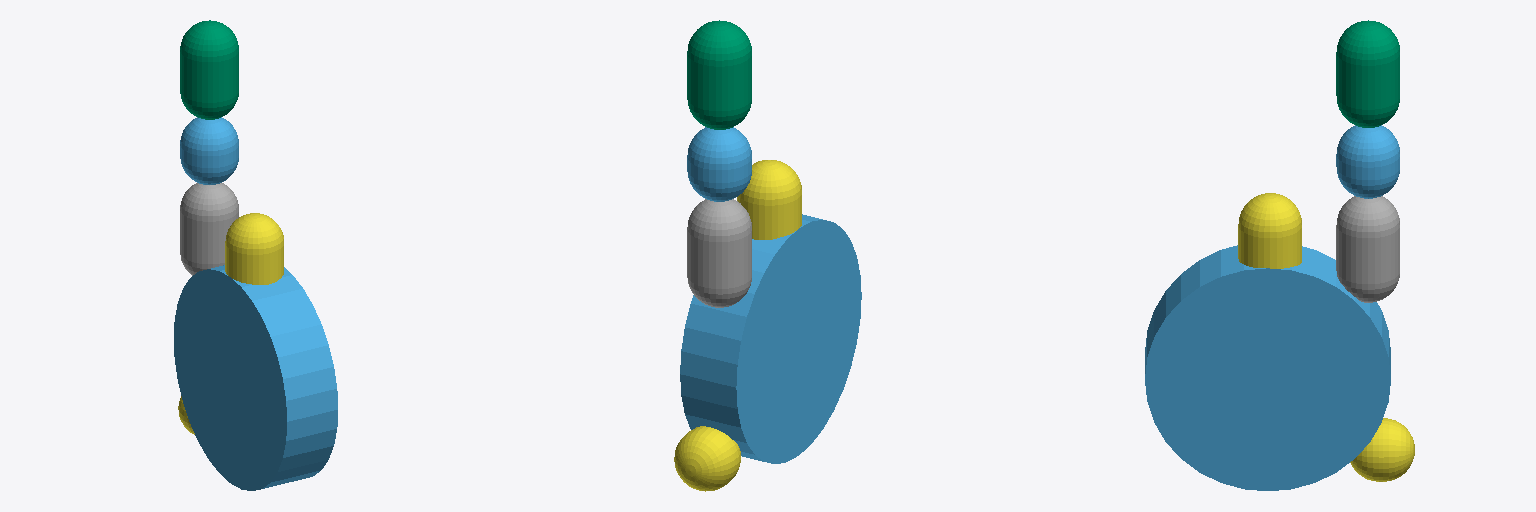
URDF robot description (DexterousHand):
<?xml version="1.0"?>
<robot name="DexterousHand">


    <link name="world"/>
    <joint name="world_to_palm" type="fixed">
        <parent link="world"/>
        <child link="palm"/>
        <origin xyz="0 0 0" rpy="0 0 0"/>
    </joint>
    <link name="palm">
        <inertial>
            <origin xyz="0 0 0.057" rpy="0 0 0"/>
            <mass value="0.30212892864"/>
            <inertia ixx="0.00049080844457568" ixy="0.0" ixz="0.0" iyy="0.00026746366246427523" iyz="0.0" izz="0.00026746366246427523"/>
        </inertial>
        <visual>
            <origin xyz="0 0 0.057" rpy="1.5708 0 1.5708"/>
            <geometry>
                <cylinder radius="0.057" length="0.0296"/>
            </geometry>
            <material name="default"/>
        </visual>
        <collision>
            <origin xyz="0 0 0.057" rpy="1.5708 0 1.5708"/>
            <geometry>
                <cylinder radius="0.057" length="0.0296"/>
            </geometry>
        </collision>
    </link>

    
    <joint name="thumb_joint1" type="revolute">
        <parent link="palm"/>
        <child link="thumb_base"/>
        <origin xyz="0.0029 0.0368 0.0157" rpy="-1.5708 -1.5708 0.0"/>
        <axis xyz="-1 0 0"/>
        <limit lower="-0.349" upper="2.094" effort="1.0" velocity="1.0"/>
    </joint>

    <link name="thumb_base"></link>

    <joint name="thumb_joint2" type="revolute">
        <parent link="thumb_base"/>
        <child link="thumb_proximal"/>
        <origin xyz="0.0 0.0 0.0" rpy="0.0 0.0 0.0"/>
        <axis xyz="0 0 1"/>
        <limit lower="-0.47" upper="2.443" effort="1.0" velocity="1.0"/>
    </joint>

    <link name="thumb_proximal">
        <inertial>
            <origin xyz="0 0 0.01565" rpy="0 0 0"/>
            <mass value="0.021538658803200002"/>
            <inertia ixx="2.9378910096388167e-06" ixy="0.0" ixz="0.0" 
            iyy="2.9378910096388167e-06" iyz="0.0" izz="2.358913912126464e-06"/>
        </inertial>
        <visual>
            <origin xyz="0 0 0.01565" rpy="0 0 0"/>
            <geometry>
                <cylinder radius="0.0148" length="0.0017000000000000001"/>
            </geometry>
            <material name="default"/>
        </visual>
        <visual>
            <origin xyz="0 0 0.0148" rpy="0 0 0"/>
            <geometry>
                <sphere radius="0.0148"/>
            </geometry>
            <material name="default"/>
        </visual>
        <visual>
            <origin xyz="0 0 0.0165" rpy="0 0 0"/>
            <geometry>
                <sphere radius="0.0148"/>
            </geometry>
            <material name="default"/>
        </visual>
        <collision>
            <origin xyz="0 0 0.01565" rpy="0 0 0"/>
            <geometry>
                <cylinder radius="0.0148" length="0.0017000000000000001"/>
            </geometry>
        </collision>
        <collision>
            <origin xyz="0 0 0.0148" rpy="0 0 0"/>
            <geometry>
                <sphere radius="0.0148"/>
            </geometry>
        </collision>
        <collision>
            <origin xyz="0 0 0.0165" rpy="0 0 0"/>
            <geometry>
                <sphere radius="0.0148"/>
            </geometry>
        </collision>
    </link>

    <joint name="thumb_joint3" type="revolute">
        <parent link="thumb_proximal"/>
        <child link="thumb_knuckle"/>
        <origin xyz="0.0 0.0 0.0" rpy="0.0 0.0 0.0"/>
        <axis xyz="1 0 0"/>
        <limit lower="0.0" upper="0.0" effort="1.0" velocity="1.0"/>
    </joint>

    <link name="thumb_knuckle"></link>

    <joint name="thumb_joint4" type="revolute">
        <parent link="thumb_knuckle"/>
        <child link="thumb_middle"/>
        <origin xyz="0 0 0" rpy="0 0 0"/> 
        <axis xyz="0 1 0"/>
        <limit lower="0.0" upper="0.0" effort="1.0" velocity="1.0"/>
    </joint>

    <link name="thumb_middle">
    </link>

    <joint name="thumb_joint5" type="revolute">
        <parent link="thumb_middle"/>
        <child link="thumb_distal"/>
        <origin xyz="0 0 0" rpy="0 0 0"/> 
        <axis xyz="0 1 0"/>
        <limit lower="0.0" upper="0.0" effort="1.0" velocity="1.0"/>
    </joint>

    <link name="thumb_distal">
    </link>

    
    <joint name="index_joint1" type="revolute">
        <parent link="palm"/>
        <child link="index_proximal"/>
        <origin xyz="0.0 0.0465 0.091" rpy="0.0 0.0 0.0"/>
        <axis xyz="0 1 0"/>
        <limit lower="-0.314" upper="2.23" effort="1.0" velocity="1.0"/>
    </joint>

    <link name="index_proximal">
        <inertial>
            <origin xyz="0 0 0.02655" rpy="0 0 0"/>
            <mass value="0.036540024998400006"/>
            <inertia ixx="1.058665009272394e-05" ixy="0.0" ixz="0.0" 
            iyy="1.058665009272394e-05" iyz="0.0" izz="4.001863537824769e-06"/>
        </inertial>
        <visual>
            <origin xyz="0 0 0.02655" rpy="0 0 0"/>
            <geometry>
                <cylinder radius="0.0148" length="0.0235"/>
            </geometry>
            <material name="default"/>
        </visual>
        <visual>
            <origin xyz="0 0 0.0148" rpy="0 0 0"/>
            <geometry>
                <sphere radius="0.0148"/>
            </geometry>
            <material name="default"/>
        </visual>
        <visual>
            <origin xyz="0 0 0.0383" rpy="0 0 0"/>
            <geometry>
                <sphere radius="0.0148"/>
            </geometry>
            <material name="default"/>
        </visual>
        <collision>
            <origin xyz="0 0 0.02655" rpy="0 0 0"/>
            <geometry>
                <cylinder radius="0.0148" length="0.0235"/>
            </geometry>
        </collision>
        <collision>
            <origin xyz="0 0 0.0148" rpy="0 0 0"/>
            <geometry>
                <sphere radius="0.0148"/>
            </geometry>
        </collision>
        <collision>
            <origin xyz="0 0 0.0383" rpy="0 0 0"/>
            <geometry>
                <sphere radius="0.0148"/>
            </geometry>
        </collision>
    </link>

    <joint name="index_joint2" type="revolute">
        <parent link="index_proximal"/>
        <child link="index_dummy"/>
        <origin xyz="0.0 0.0 0.038" rpy="0.0 0.0 0.0"/>
        <axis xyz="1 0 0"/>
        <limit lower="-1.047" upper="1.047" effort="1.0" velocity="1.0"/>
    </joint>

    <link name="index_dummy"></link>

    <joint name="index_joint3" type="revolute">
        <parent link="index_dummy"/>
        <child link="index_middle"/>
        <origin xyz="0 0 0.015100000000000002" rpy="0 0 0"/>
        <axis xyz="0 1 0"/>
        <limit lower="-0.506" upper="1.885" effort="1.0" velocity="1.0"/>
    </joint>

    <link name="index_middle">
        <inertial>
            <origin xyz="0 0 0.01805" rpy="0 0 0"/>
            <mass value="0.0248417119104"/>
            <inertia ixx="4.058162759109537e-06" ixy="0.0" ixz="0.0" 
            iyy="4.058162759109537e-06" iyz="0.0" izz="2.7206642884270085e-06"/>
        </inertial>
        <visual>
            <origin xyz="0 0 0.01805" rpy="0 0 0"/>
            <geometry>
                <cylinder radius="0.0148" length="0.006499999999999999"/>
            </geometry>
            <material name="default"/>
        </visual>
        <visual>
            <origin xyz="0 0 0.0148" rpy="0 0 0"/>
            <geometry>
                <sphere radius="0.0148"/>
            </geometry>
            <material name="default"/>
        </visual>
        <visual>
            <origin xyz="0 0 0.0213" rpy="0 0 0"/>
            <geometry>
                <sphere radius="0.0148"/>
            </geometry>
            <material name="default"/>
        </visual>
        <collision>
            <origin xyz="0 0 0.01805" rpy="0 0 0"/>
            <geometry>
                <cylinder radius="0.0148" length="0.006499999999999999"/>
            </geometry>
        </collision>
        <collision>
            <origin xyz="0 0 0.0148" rpy="0 0 0"/>
            <geometry>
                <sphere radius="0.0148"/>
            </geometry>
        </collision>
        <collision>
            <origin xyz="0 0 0.0213" rpy="0 0 0"/>
            <geometry>
                <sphere radius="0.0148"/>
            </geometry>
        </collision>
    </link>

    <joint name="index_joint4" type="revolute">
        <parent link="index_middle"/>
        <child link="index_distal"/>
        <origin xyz="0 0 0.0361" rpy="0 0 0"/> 
        <axis xyz="0 1 0"/>
        <limit lower="-0.366" upper="2.042" effort="1.0" velocity="1.0"/>
    </joint>

    <link name="index_distal">
        <inertial>
            <origin xyz="0 0 0.026" rpy="0 0 0"/>
            <mass value="0.035783075328"/>
            <inertia ixx="1.002260084553728e-05" ixy="0.0" ixz="0.0" 
            iyy="1.002260084553728e-05" iyz="0.0" izz="3.91896240992256e-06"/>
        </inertial>
        <visual>
            <origin xyz="0 0 0.026" rpy="0 0 0"/>
            <geometry>
                <cylinder radius="0.0148" length="0.022399999999999996"/>
            </geometry>
            <material name="default"/>
        </visual>
        <visual>
            <origin xyz="0 0 0.0148" rpy="0 0 0"/>
            <geometry>
                <sphere radius="0.0148"/>
            </geometry>
            <material name="default"/>
        </visual>
        <visual>
            <origin xyz="0 0 0.0372" rpy="0 0 0"/>
            <geometry>
                <sphere radius="0.0148"/>
            </geometry>
            <material name="default"/>
        </visual>
        <collision>
            <origin xyz="0 0 0.026" rpy="0 0 0"/>
            <geometry>
                <cylinder radius="0.0148" length="0.022399999999999996"/>
            </geometry>
        </collision>
        <collision>
            <origin xyz="0 0 0.0148" rpy="0 0 0"/>
            <geometry>
                <sphere radius="0.0148"/>
            </geometry>
        </collision>
        <collision>
            <origin xyz="0 0 0.0372" rpy="0 0 0"/>
            <geometry>
                <sphere radius="0.0148"/>
            </geometry>
        </collision>
    </link>

    
    <joint name="middle_joint1" type="revolute">
        <parent link="palm"/>
        <child link="middle_proximal"/>
        <origin xyz="0.0 0.0011 0.091" rpy="0.0 0.0 0.0"/>
        <axis xyz="0 1 0"/>
        <limit lower="-0.314" upper="2.23" effort="1.0" velocity="1.0"/>
    </joint>

    <link name="middle_proximal">
        <inertial>
            <origin xyz="0 0 0.02655" rpy="0 0 0"/>
            <mass value="0.036540024998400006"/>
            <inertia ixx="1.058665009272394e-05" ixy="0.0" ixz="0.0" 
            iyy="1.058665009272394e-05" iyz="0.0" izz="4.001863537824769e-06"/>
        </inertial>
        <visual>
            <origin xyz="0 0 0.02655" rpy="0 0 0"/>
            <geometry>
                <cylinder radius="0.0148" length="0.0235"/>
            </geometry>
            <material name="default"/>
        </visual>
        <visual>
            <origin xyz="0 0 0.0148" rpy="0 0 0"/>
            <geometry>
                <sphere radius="0.0148"/>
            </geometry>
            <material name="default"/>
        </visual>
        <visual>
            <origin xyz="0 0 0.0383" rpy="0 0 0"/>
            <geometry>
                <sphere radius="0.0148"/>
            </geometry>
            <material name="default"/>
        </visual>
        <collision>
            <origin xyz="0 0 0.02655" rpy="0 0 0"/>
            <geometry>
                <cylinder radius="0.0148" length="0.0235"/>
            </geometry>
        </collision>
        <collision>
            <origin xyz="0 0 0.0148" rpy="0 0 0"/>
            <geometry>
                <sphere radius="0.0148"/>
            </geometry>
        </collision>
        <collision>
            <origin xyz="0 0 0.0383" rpy="0 0 0"/>
            <geometry>
                <sphere radius="0.0148"/>
            </geometry>
        </collision>
    </link>

    <joint name="middle_joint2" type="revolute">
        <parent link="middle_proximal"/>
        <child link="middle_dummy"/>
        <origin xyz="0.0 0.0 0.038" rpy="0.0 0.0 0.0"/>
        <axis xyz="0 1 0"/>
        <limit lower="0.0" upper="0.0" effort="1.0" velocity="1.0"/>
    </joint>

    <link name="middle_dummy"></link>

    <joint name="middle_joint3" type="revolute">
        <parent link="middle_dummy"/>
        <child link="middle_middle"/>
        <origin xyz="0 0 0.015100000000000002" rpy="0 0 0"/>
        <axis xyz="0 1 0"/>
        <limit lower="0.0" upper="0.0" effort="1.0" velocity="1.0"/>
    </joint>

    <link name="middle_middle">
    </link>

    <joint name="middle_joint4" type="revolute">
        <parent link="middle_middle"/>
        <child link="middle_distal"/>
        <origin xyz="0 0 0" rpy="0 0 0"/> 
        <axis xyz="0 1 0"/>
        <limit lower="0.0" upper="0.0" effort="1.0" velocity="1.0"/>
    </joint>

    <link name="middle_distal">
    </link>

    
    <joint name="ring_joint1" type="revolute">
        <parent link="palm"/>
        <child link="ring_proximal"/>
        <origin xyz="0.0 0.0 0.0" rpy="0.0 0.0 0.0"/>
        <axis xyz="1 0 0"/>
        <limit lower="0.0" upper="0.0" effort="1.0" velocity="1.0"/>
    </joint>

    <link name="ring_proximal">
    </link>

    <joint name="ring_joint2" type="revolute">
        <parent link="ring_proximal"/>
        <child link="ring_dummy"/>
        <origin xyz="0.0 0.0 0.0" rpy="0.0 0.0 0.0"/>
        <axis xyz="0 1 0"/>
        <limit lower="0.0" upper="0.0" effort="1.0" velocity="1.0"/>
    </joint>

    <link name="ring_dummy"></link>

    <joint name="ring_joint3" type="revolute">
        <parent link="ring_dummy"/>
        <child link="ring_middle"/>
        <origin xyz="0 0 0" rpy="0 0 0"/>
        <axis xyz="0 1 0"/>
        <limit lower="0.0" upper="0.0" effort="1.0" velocity="1.0"/>
    </joint>

    <link name="ring_middle">
    </link>

    <joint name="ring_joint4" type="revolute">
        <parent link="ring_middle"/>
        <child link="ring_distal"/>
        <origin xyz="0 0 0" rpy="0 0 0"/> 
        <axis xyz="0 1 0"/>
        <limit lower="0.0" upper="0.0" effort="1.0" velocity="1.0"/>
    </joint>

    <link name="ring_distal">
    </link>

    
    <joint name="little_joint0" type="revolute">
        <parent link="palm"/>
        <child link="little_base"/>
        <origin xyz="0.0 0.0 0.0" rpy="0.0 0.0 0.0"/>
        <axis xyz="0 1 0"/>
        <limit lower="0.0" upper="0.0" effort="1.0" velocity="1.0"/>
    </joint>

    <link name="little_base"></link>

    <joint name="little_joint1" type="revolute">
        <parent link="little_base"/>
        <child link="little_proximal"/>
        <origin xyz="0.0 0.0 0.0" rpy="-0.0 -0.0 -0.0"/>
        <axis xyz="1 0 0"/>
        <limit lower="0.0" upper="0.0" effort="1.0" velocity="1.0"/>
    </joint>

    <link name="little_proximal">
    </link>

    <joint name="little_joint2" type="revolute">
        <parent link="little_proximal"/>
        <child link="little_dummy"/>
        <origin xyz="0.0 0.0 0.0" rpy="0.0 0.0 0.0"/>
        <axis xyz="0 1 0"/>
        <limit lower="0.0" upper="0.0" effort="1.0" velocity="1.0"/>
    </joint>

    <link name="little_dummy"></link>

    <joint name="little_joint3" type="revolute">
        <parent link="little_dummy"/>
        <child link="little_middle"/>
        <origin xyz="0 0 0" rpy="0 0 0"/>
        <axis xyz="0 1 0"/>
        <limit lower="0.0" upper="0.0" effort="1.0" velocity="1.0"/>
    </joint>

    <link name="little_middle">
    </link>

    <joint name="little_joint4" type="revolute">
        <parent link="little_middle"/>
        <child link="little_distal"/>
        <origin xyz="0 0 0" rpy="0 0 0"/>
        <axis xyz="0 1 0"/>
        <limit lower="0.0" upper="0.0" effort="1.0" velocity="1.0"/>
    </joint>

    <link name="little_distal">
    </link>

</robot>

--- Render facts (derived) ---
3 views of the same robot in one strip: view 1: azimuth 30°, elevation 25°; view 2: azimuth 150°, elevation 25°; view 3: azimuth 270°, elevation 25° (orthographic).
Model DexterousHand with 24 links and 23 joints (22 revolute, 1 fixed), rooted at world, posed all joints at 0.
Links seen in each view (by area): view 1: palm, index_distal, index_proximal, middle_proximal, index_middle; view 2: palm, index_proximal, index_distal, index_middle, middle_proximal, thumb_proximal; view 3: palm, index_distal, index_proximal, middle_proximal, index_middle, thumb_proximal.
Boxes of the visible links, x1,y1,x2,y2 form: palm: [174, 265, 337, 490]; index_distal: [180, 20, 238, 119]; index_proximal: [180, 183, 238, 275]; middle_proximal: [225, 213, 283, 284]; index_middle: [180, 117, 238, 184]; palm: [680, 214, 861, 463]; index_proximal: [687, 199, 751, 307]; index_distal: [687, 20, 751, 129]; index_middle: [687, 127, 751, 201]; middle_proximal: [737, 160, 801, 239]; thumb_proximal: [674, 426, 740, 491]; palm: [1145, 245, 1390, 490]; index_distal: [1336, 20, 1399, 127]; index_proximal: [1336, 196, 1399, 302]; middle_proximal: [1238, 193, 1301, 268]; index_middle: [1336, 125, 1399, 198]; thumb_proximal: [1350, 418, 1414, 481].
Bounding box of the posed robot: 0.0325 × 0.1251 × 0.2322 m (x, y, z).
Geometry: primitives only (box / cylinder / sphere), no mesh files.
